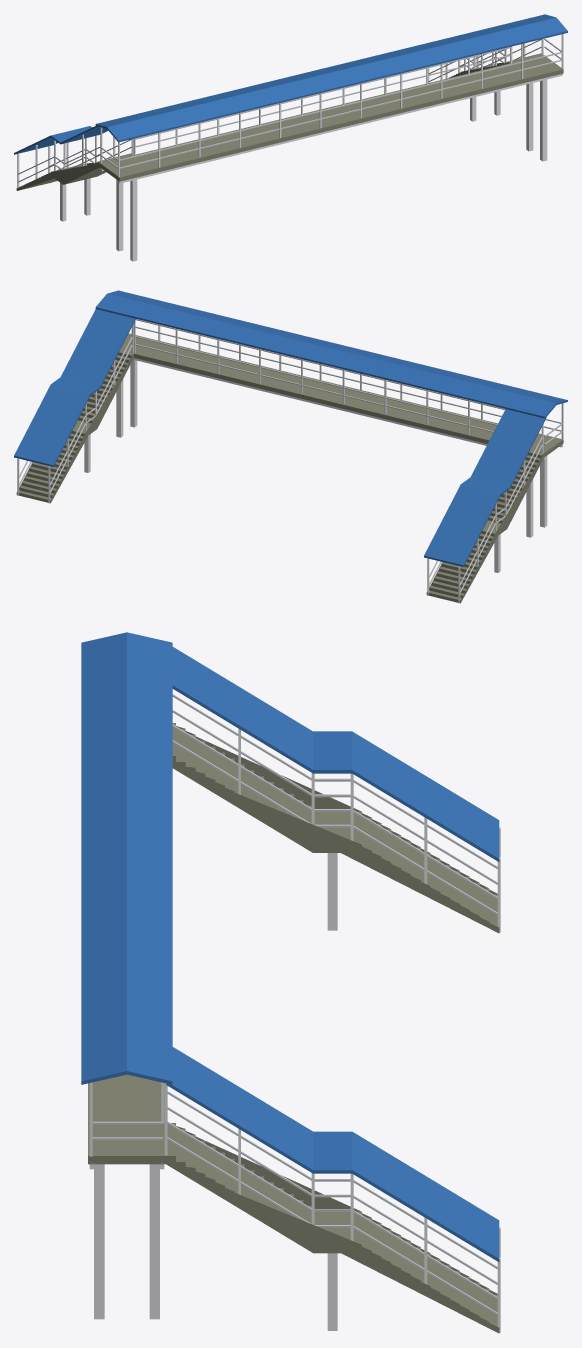
3 views of the same model, one above another, from view 1: azimuth 30°, elevation 25°; view 2: azimuth 150°, elevation 25°; view 3: azimuth 270°, elevation 25° (orthographic). The views are drawn at different scales.
Parts seen in each view (by area): view 1: Footbridge_112; view 2: Footbridge_112; view 3: Footbridge_112.
Part boxes in pixels (x1,y1,x2,y2): Footbridge_112: (14, 14, 567, 261); Footbridge_112: (14, 290, 567, 603); Footbridge_112: (81, 632, 500, 1333).
Bounding box in the file's own units: 31.8 × 8.97 × 12.84.
